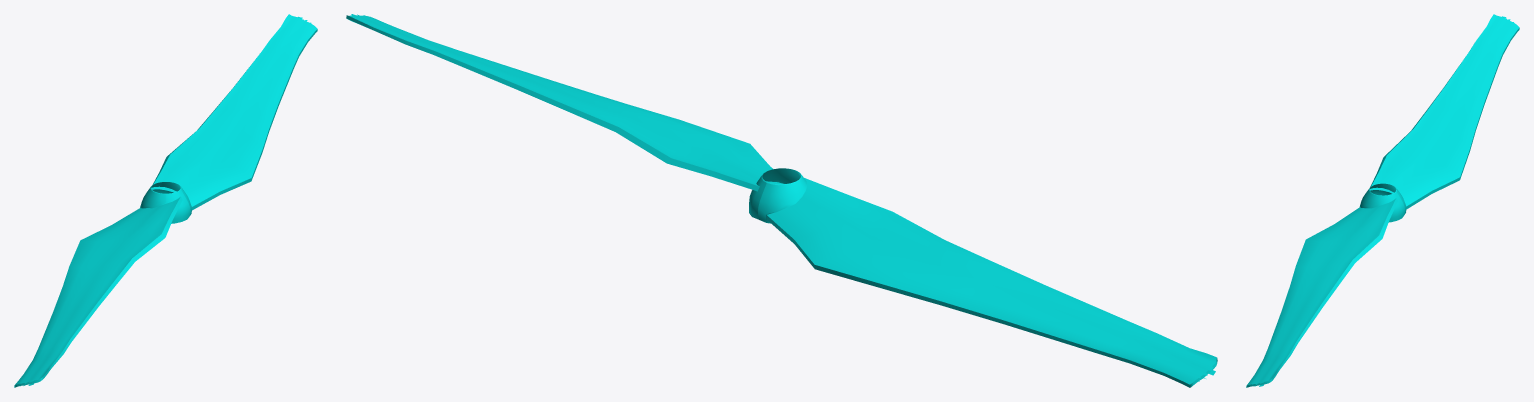
File: propeller_4.fbx
3 renders of one model, left to right at view 1: azimuth 90°, elevation 25°; view 2: azimuth 150°, elevation 25°; view 3: azimuth 270°, elevation 25°, orthographic. The views are drawn at different scales.
Visible parts, largest first — view 1: polySurface12; view 2: polySurface12; view 3: polySurface12.
Part boxes in pixels (left/top/right/bottom): polySurface12: left=14, top=14, right=317, bottom=387; polySurface12: left=346, top=14, right=1217, bottom=387; polySurface12: left=1246, top=14, right=1519, bottom=387.
Bounding box in the file's own units: 17.81 × 0.746 × 5.89.
